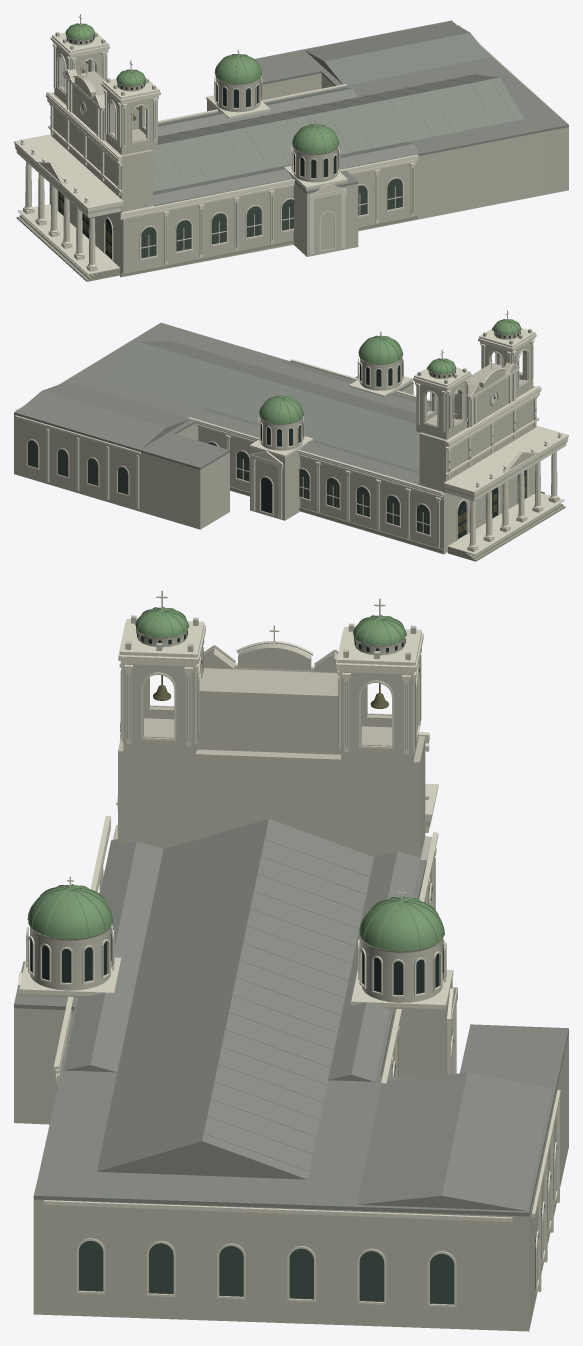
The model's file is catedral-metropolitana-san-jose-near.glb.
The picture shows the model from 3 angles, top to bottom: view 1: azimuth 30°, elevation 25°; view 2: azimuth 150°, elevation 25°; view 3: azimuth 270°, elevation 25°; orthographic projection. The views are drawn at different scales.
Visible parts, largest first — view 1: catedral-metropolitana-san-jose-0-roof, catedral-metropolitana-san-jose-0-stone, catedral-metropolitana-san-jose-0-trim, catedral-metropolitana-san-jose-0-shade, catedral-metropolitana-san-jose-0-copper, catedral-metropolitana-san-jose-0-glow, catedral-metropolitana-san-jose-0-glass, catedral-metropolitana-san-jose-0-bronze; view 2: catedral-metropolitana-san-jose-0-roof, catedral-metropolitana-san-jose-0-stone, catedral-metropolitana-san-jose-0-trim, catedral-metropolitana-san-jose-0-shade, catedral-metropolitana-san-jose-0-glow, catedral-metropolitana-san-jose-0-copper, catedral-metropolitana-san-jose-0-glass, catedral-metropolitana-san-jose-0-bronze; view 3: catedral-metropolitana-san-jose-0-roof, catedral-metropolitana-san-jose-0-stone, catedral-metropolitana-san-jose-0-trim, catedral-metropolitana-san-jose-0-copper, catedral-metropolitana-san-jose-0-glow, catedral-metropolitana-san-jose-0-shade, catedral-metropolitana-san-jose-0-glass.
Boxes of the visible parts, x1,y1,x2,y2 form: catedral-metropolitana-san-jose-0-roof: [145, 20, 568, 206]; catedral-metropolitana-san-jose-0-stone: [15, 32, 568, 275]; catedral-metropolitana-san-jose-0-trim: [14, 14, 568, 274]; catedral-metropolitana-san-jose-0-shade: [16, 49, 515, 281]; catedral-metropolitana-san-jose-0-copper: [65, 23, 339, 153]; catedral-metropolitana-san-jose-0-glow: [141, 178, 402, 258]; catedral-metropolitana-san-jose-0-glass: [58, 36, 338, 258]; catedral-metropolitana-san-jose-0-bronze: [58, 61, 398, 257]; catedral-metropolitana-san-jose-0-roof: [14, 322, 431, 485]; catedral-metropolitana-san-jose-0-stone: [14, 327, 567, 554]; catedral-metropolitana-san-jose-0-trim: [15, 310, 568, 554]; catedral-metropolitana-san-jose-0-shade: [114, 342, 565, 561]; catedral-metropolitana-san-jose-0-glow: [28, 440, 429, 534]; catedral-metropolitana-san-jose-0-copper: [259, 319, 521, 423]; catedral-metropolitana-san-jose-0-glass: [260, 331, 526, 538]; catedral-metropolitana-san-jose-0-bronze: [239, 354, 526, 536]; catedral-metropolitana-san-jose-0-roof: [14, 818, 568, 1216]; catedral-metropolitana-san-jose-0-stone: [14, 615, 568, 1331]; catedral-metropolitana-san-jose-0-trim: [17, 590, 560, 1307]; catedral-metropolitana-san-jose-0-copper: [27, 607, 444, 951]; catedral-metropolitana-san-jose-0-glow: [79, 885, 554, 1304]; catedral-metropolitana-san-jose-0-shade: [56, 647, 435, 1171]; catedral-metropolitana-san-jose-0-glass: [30, 629, 451, 1040].
Bounding box in the file's own units: 85.43 × 34.5 × 47.25.
